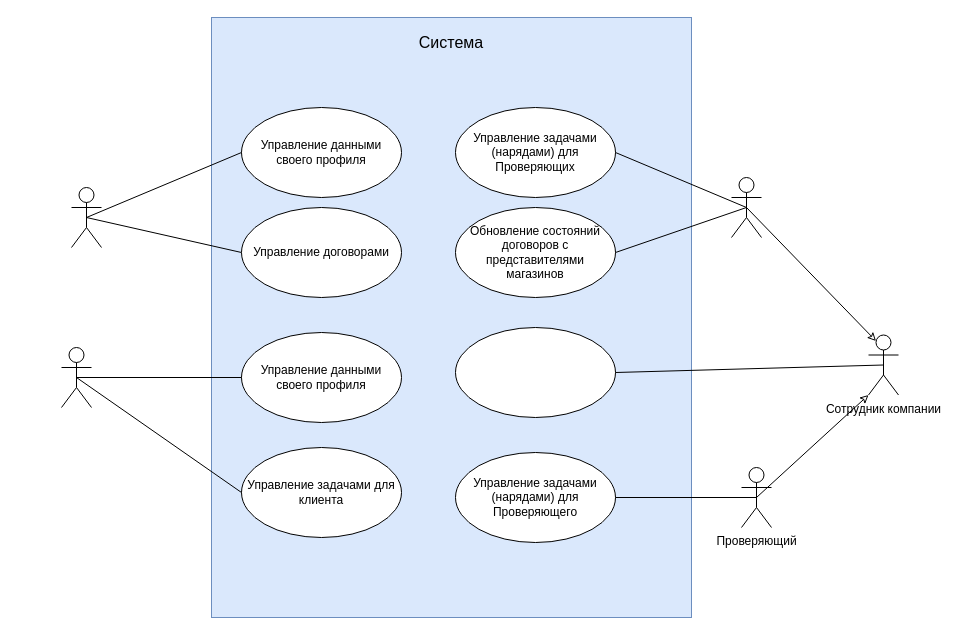
Image size: 958x635. Some labels were removed from this diagram. Here are the shapes that lost their labels. From the top down, the centre of each, then its label:
At [86,217]: "Представитель магазина".
At [746,207]: "Менеджер".
At [76,377]: "Клиент".
At [535,372]: "Управление данными профиля сотрудника".
